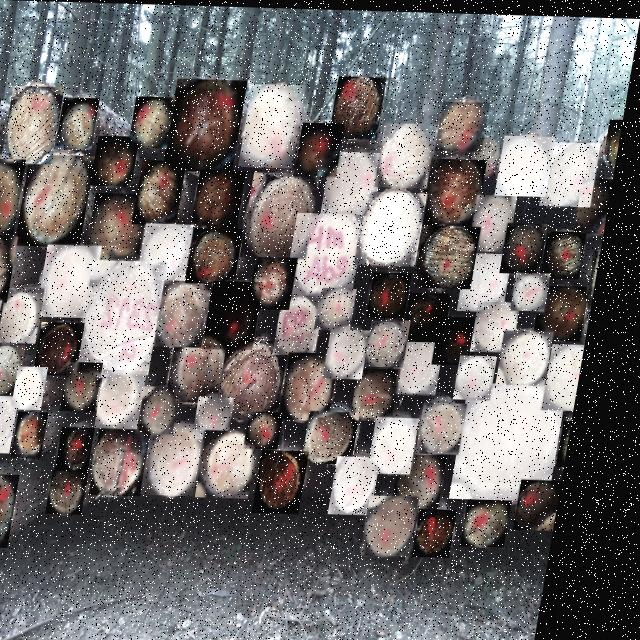wood-log: (466, 379, 581, 498), (87, 259, 177, 374), (168, 77, 250, 171), (23, 154, 100, 247), (249, 171, 326, 257), (294, 211, 373, 294), (227, 338, 301, 419), (244, 82, 309, 166), (363, 189, 434, 264), (6, 86, 68, 164), (93, 192, 160, 262), (425, 156, 492, 225), (157, 421, 220, 494), (47, 245, 110, 318), (106, 422, 167, 495), (212, 429, 274, 497), (423, 223, 488, 286), (161, 279, 222, 346), (215, 280, 274, 349), (293, 350, 352, 418), (381, 120, 441, 186), (179, 336, 239, 402), (328, 149, 389, 212), (546, 138, 605, 203), (501, 132, 560, 193), (270, 448, 326, 512), (333, 75, 389, 138), (379, 493, 436, 554), (140, 159, 192, 224), (195, 226, 251, 283), (146, 222, 202, 279), (467, 250, 521, 309), (198, 168, 252, 227), (285, 293, 337, 354), (408, 451, 463, 508), (508, 327, 565, 382), (544, 282, 599, 338), (317, 409, 374, 462), (345, 454, 396, 513), (109, 369, 160, 428), (403, 338, 456, 393), (383, 414, 434, 471), (555, 340, 596, 407), (476, 192, 524, 249), (46, 321, 96, 375), (0, 473, 36, 547), (440, 99, 493, 149), (300, 120, 349, 174), (10, 287, 57, 343), (431, 399, 481, 451), (365, 366, 414, 419), (258, 255, 307, 308), (0, 158, 32, 239), (413, 290, 461, 341), (482, 298, 530, 349), (479, 496, 529, 544), (508, 220, 555, 271), (97, 135, 144, 186), (531, 476, 578, 527), (133, 96, 179, 147), (60, 97, 103, 150), (444, 313, 490, 362), (336, 327, 381, 377), (549, 228, 594, 276), (431, 506, 475, 555), (376, 318, 421, 365), (74, 361, 116, 411), (581, 174, 618, 230), (151, 385, 194, 433), (377, 270, 421, 316), (0, 344, 38, 395), (466, 352, 509, 397), (0, 395, 33, 453), (63, 470, 105, 514), (207, 395, 249, 438), (71, 426, 110, 471), (0, 235, 26, 302), (327, 286, 367, 329), (27, 412, 63, 458), (25, 366, 61, 410), (520, 269, 560, 308), (259, 409, 298, 447), (607, 116, 626, 164), (0, 299, 13, 356), (572, 417, 586, 463), (596, 247, 608, 291), (0, 355, 7, 418), (0, 98, 5, 162), (0, 434, 5, 485)
